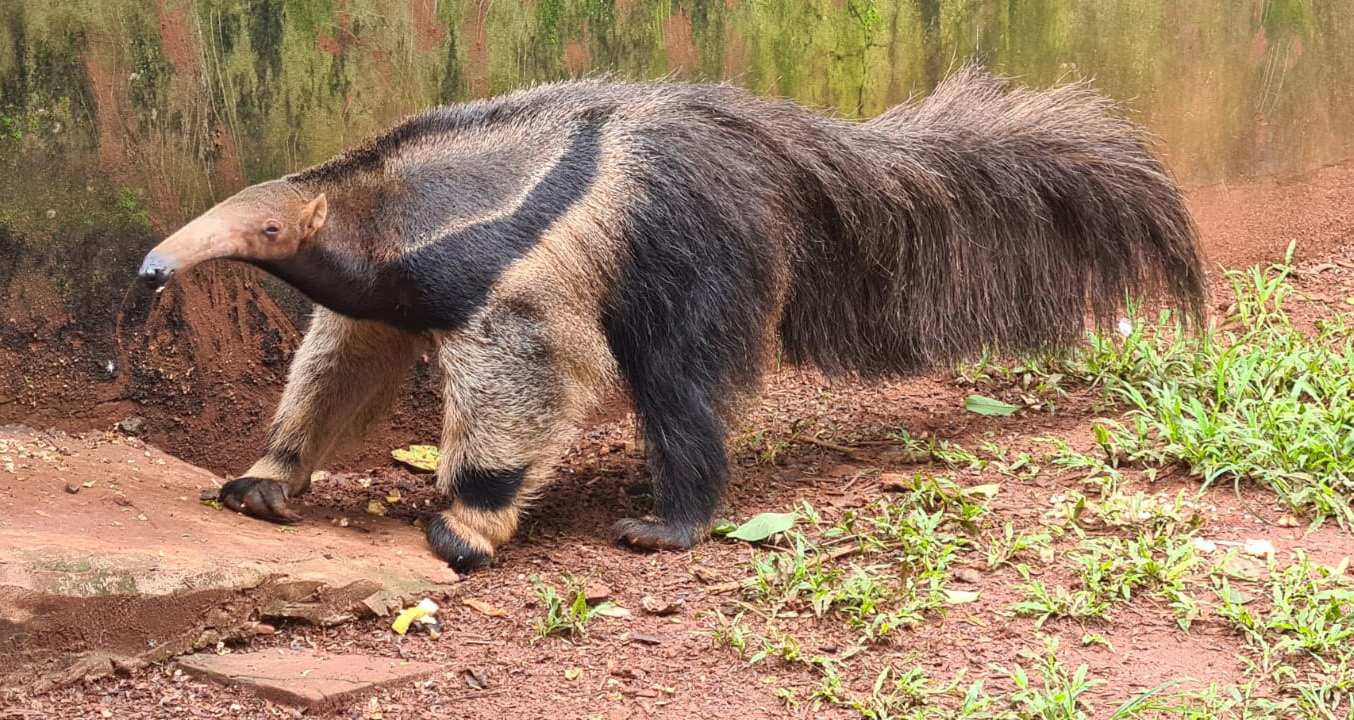TamanduaBandeira: (124, 57, 1203, 574)
